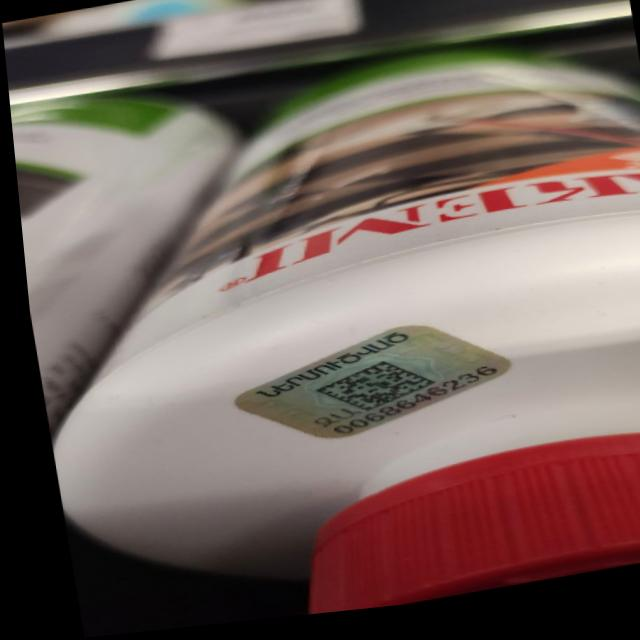datamatrix: (301, 362, 430, 426)
